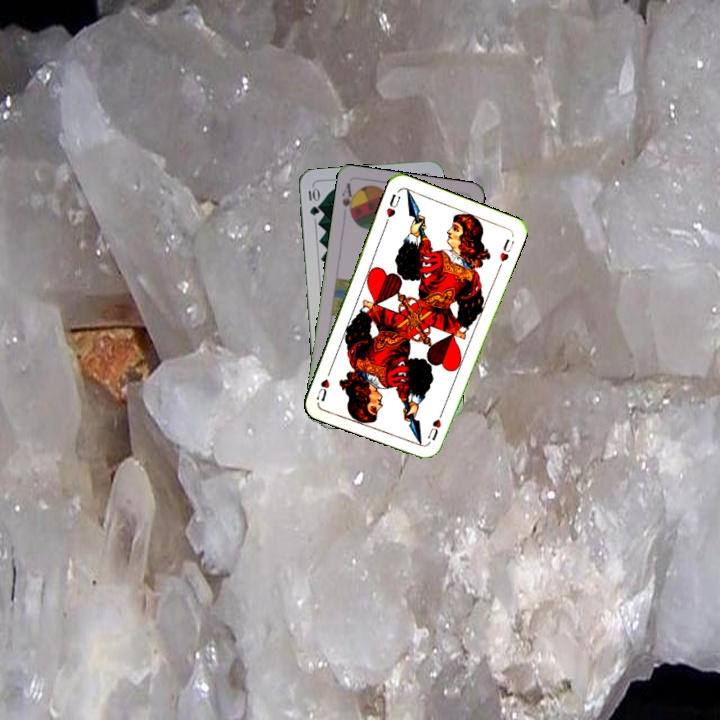G10: (304, 184, 321, 218)
HU: (381, 190, 403, 227), (423, 415, 444, 443)
SA: (338, 179, 358, 221)
